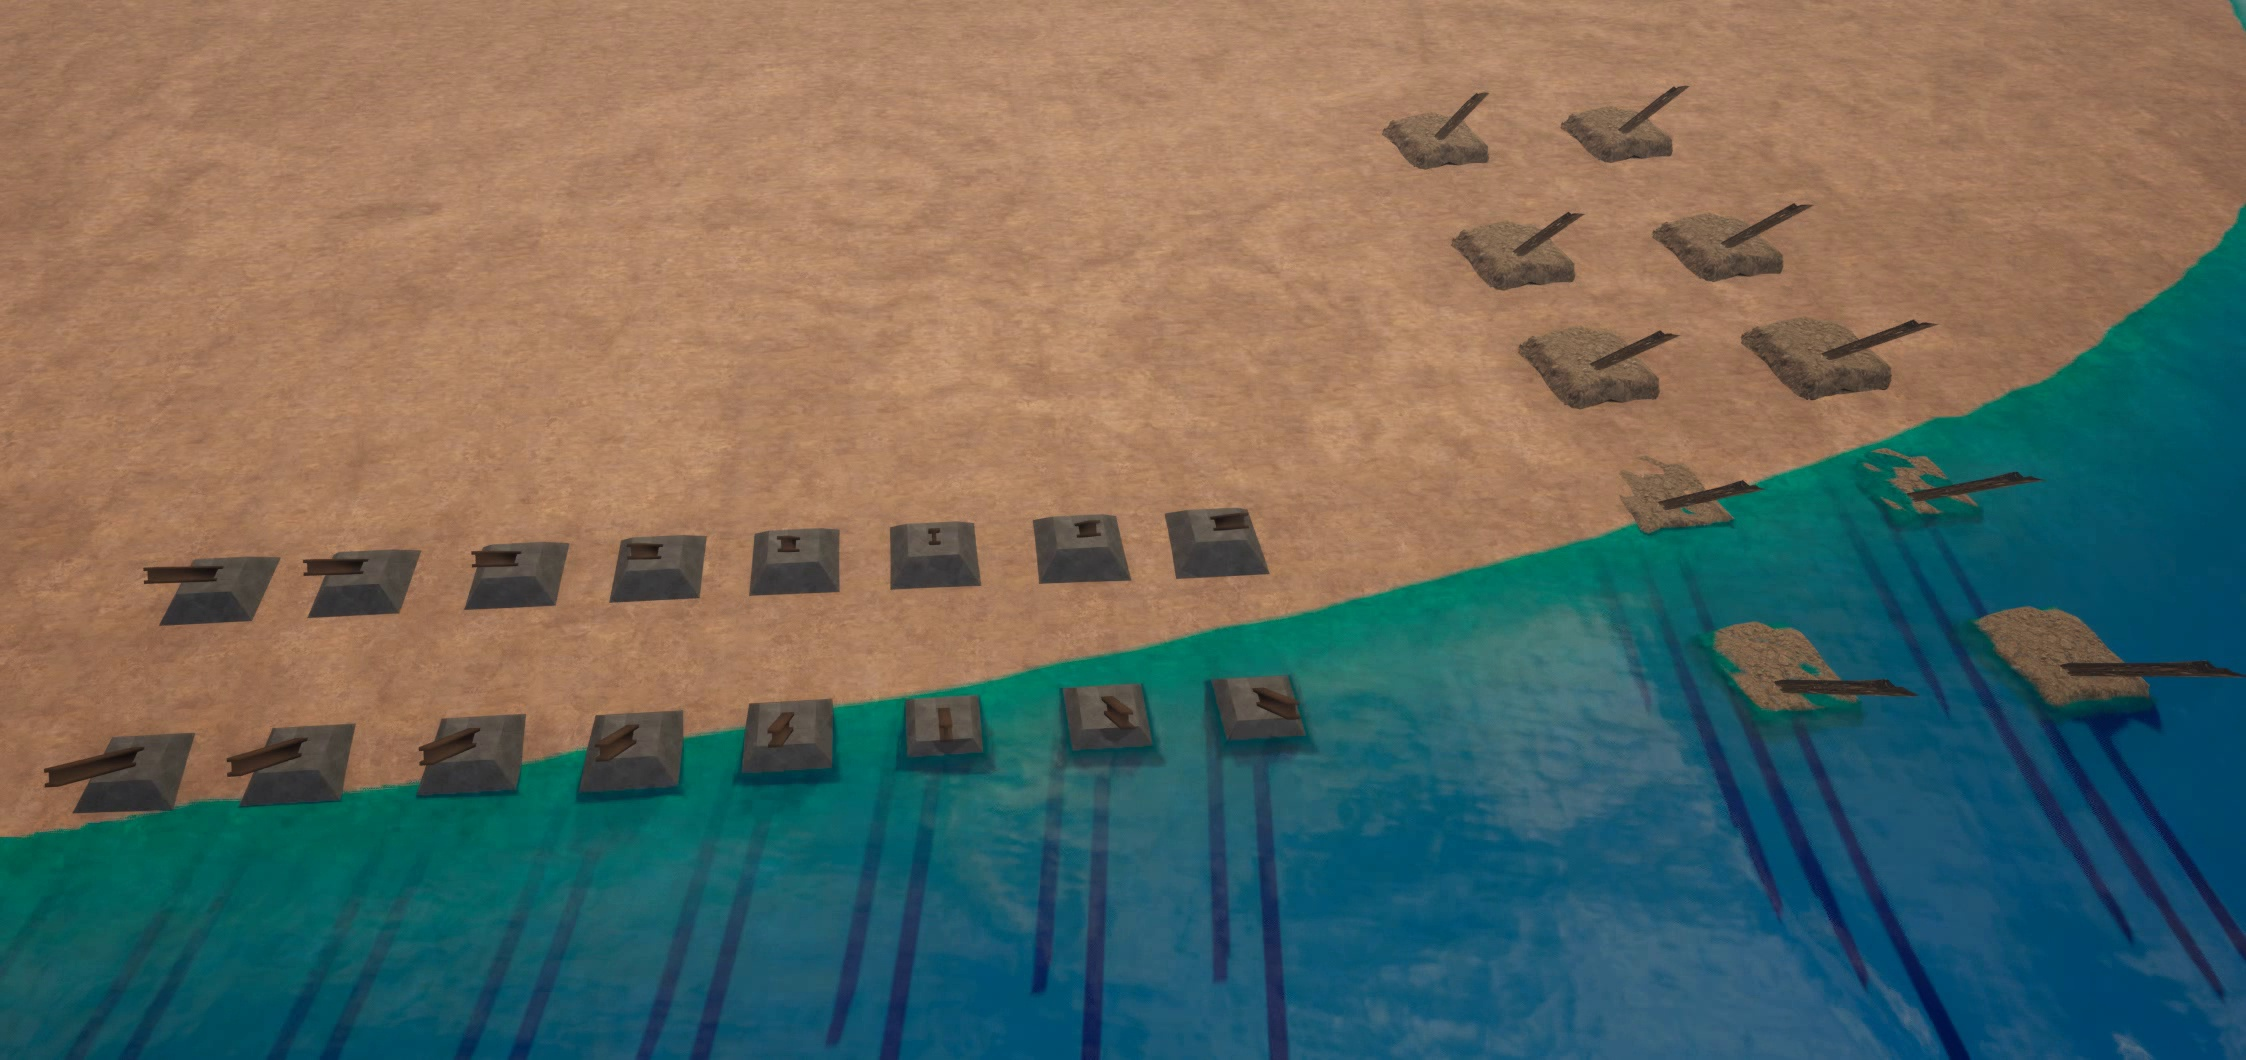gtz: (1954, 603, 2246, 719), (1687, 617, 1919, 731), (1845, 445, 2045, 534), (1740, 314, 1938, 403), (1514, 322, 1682, 411), (1604, 447, 1765, 534), (1653, 201, 1813, 281), (42, 732, 193, 811), (226, 722, 357, 804), (1452, 209, 1584, 289), (1558, 85, 1689, 163), (145, 554, 279, 626), (410, 713, 526, 796), (576, 710, 688, 794), (1382, 92, 1494, 170), (304, 550, 421, 615), (1165, 509, 1271, 579), (463, 541, 570, 610), (1031, 516, 1133, 584), (742, 696, 835, 771), (607, 534, 708, 602), (890, 520, 983, 592), (748, 529, 841, 596), (1060, 685, 1155, 751), (1210, 675, 1305, 741), (902, 693, 983, 755)
others: (1874, 676, 1919, 700), (2203, 657, 2246, 680), (592, 742, 614, 763), (2013, 471, 2045, 486), (415, 745, 435, 766), (776, 534, 801, 551), (1907, 315, 1938, 328), (766, 728, 785, 749), (1737, 478, 1765, 493), (42, 766, 59, 788), (1119, 710, 1136, 731), (1283, 700, 1301, 721), (226, 758, 242, 779), (1666, 85, 1689, 99), (1086, 521, 1104, 539), (626, 541, 642, 562), (1789, 201, 1813, 213), (1470, 92, 1494, 105), (1656, 328, 1682, 339), (142, 566, 158, 584), (938, 723, 953, 742), (470, 549, 483, 569), (304, 559, 317, 577), (1238, 511, 1250, 530), (930, 527, 943, 544), (1563, 211, 1584, 221)
